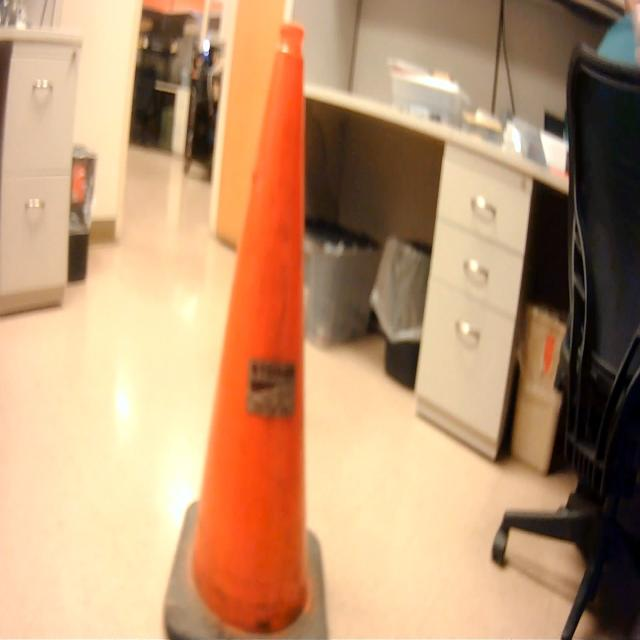traffic cone: (159, 16, 339, 640)
